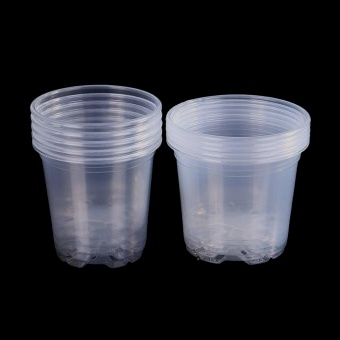plastic: (163, 91, 314, 269), (26, 81, 164, 274)
